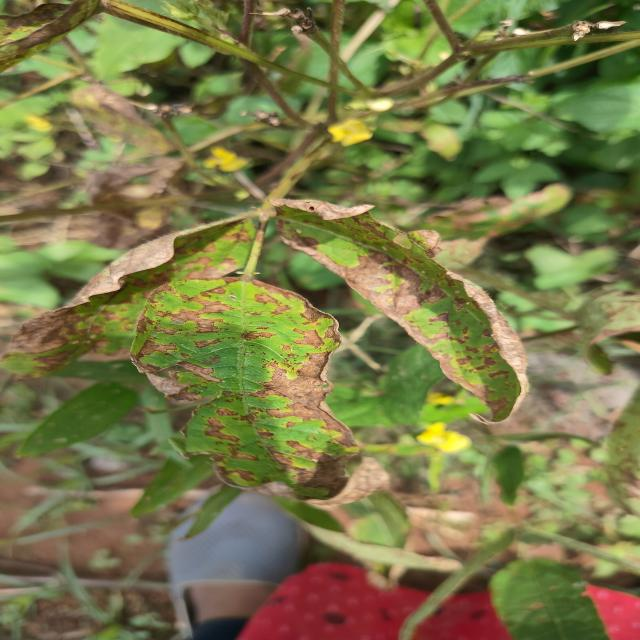Black gram_leaf spot: (269, 199, 529, 421), (130, 277, 358, 500), (0, 203, 265, 385)
